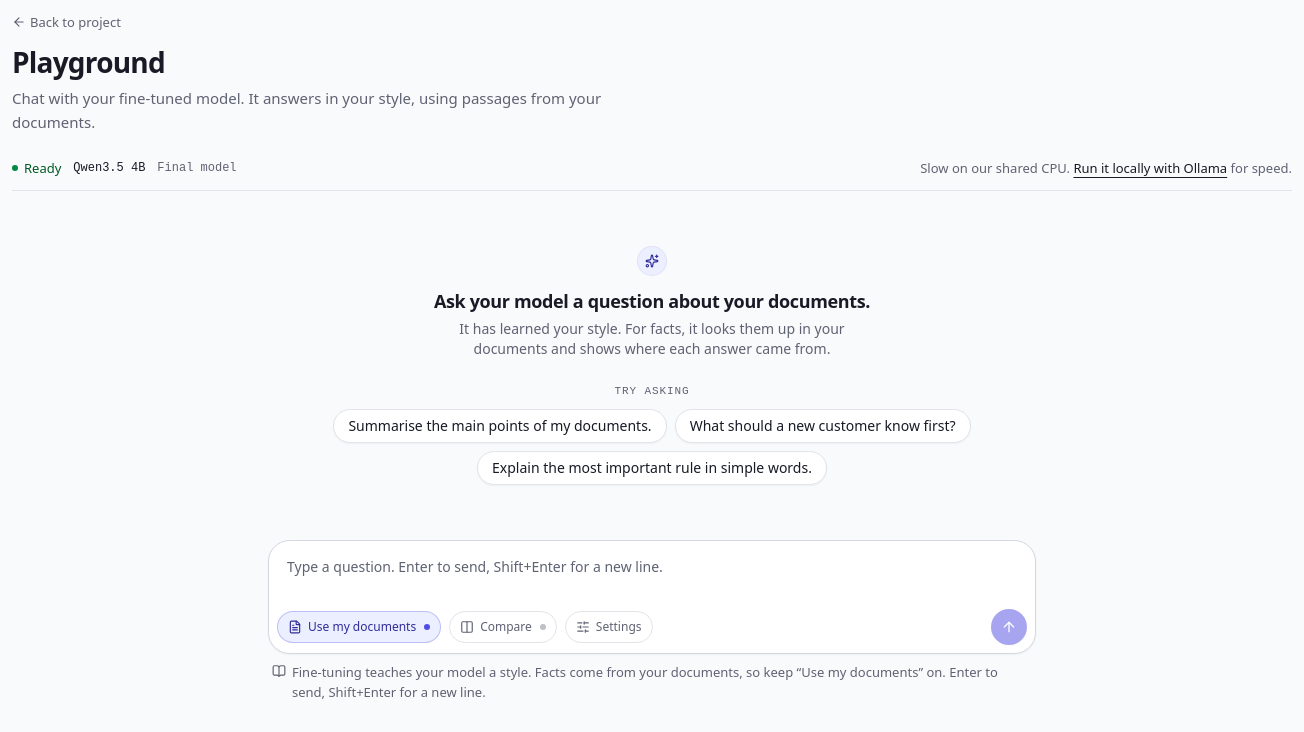
Test case: PlaygroundPage › compare mode sends a second, sequential request with compare_base and shows both answers
The image size is (1304, 732).
Click the switch named "Compare with base model".
click(503, 627)  # box [449,611,557,643]
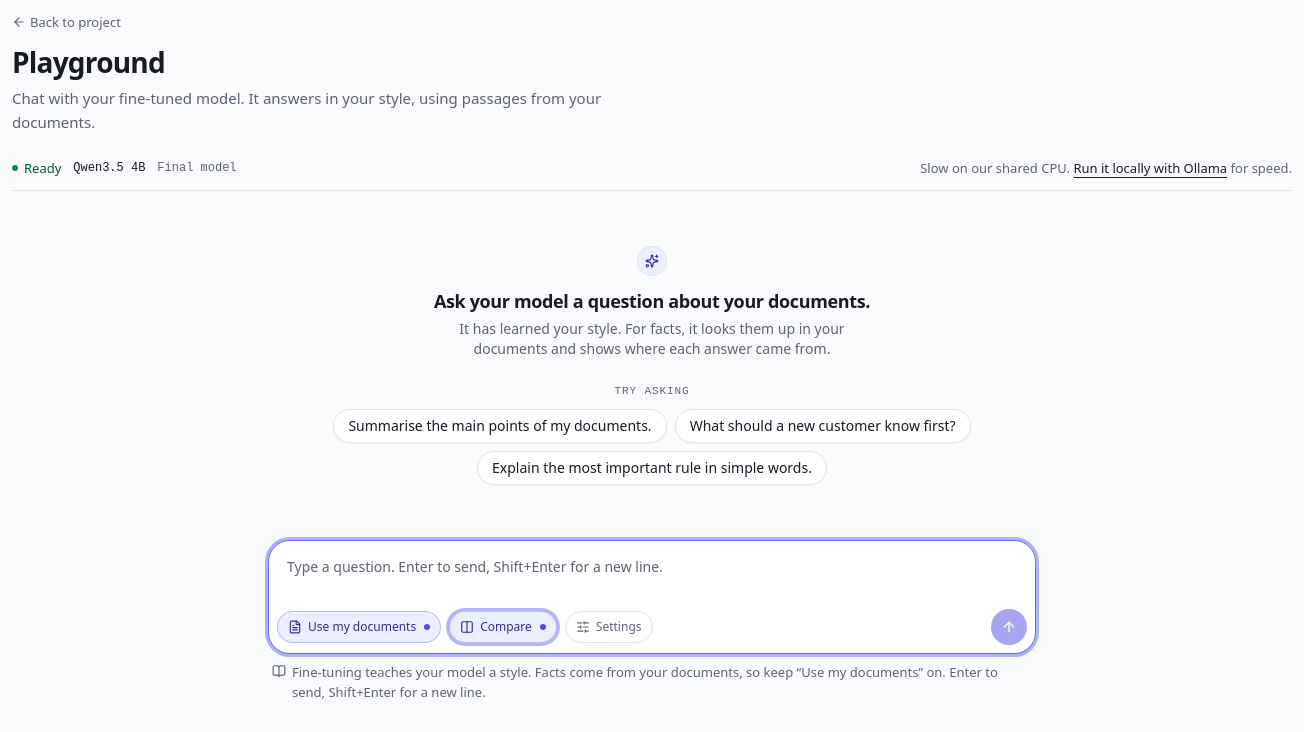
Type "Q" into the text box named "Your message".
click(652, 577); type("Q")  # box [277,549,1027,605]
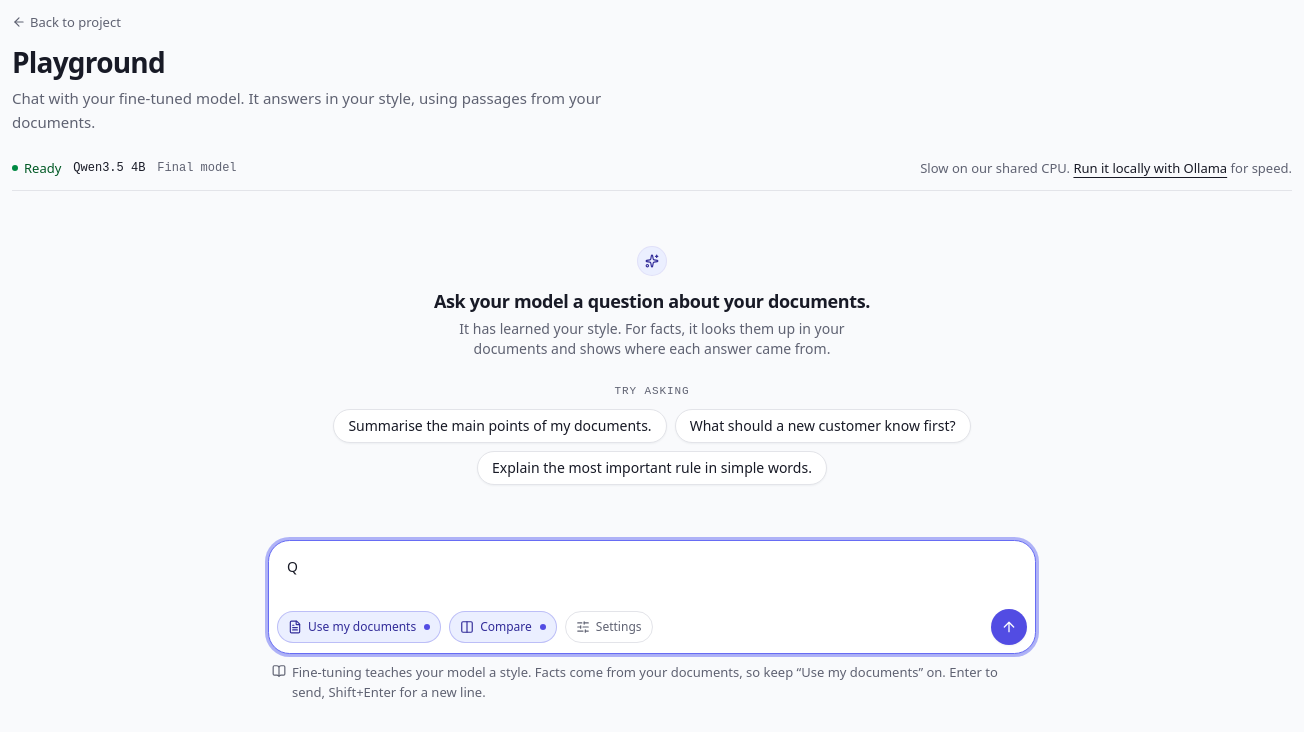
Click the button named "Send".
click(1009, 627)  # box [991,609,1027,645]
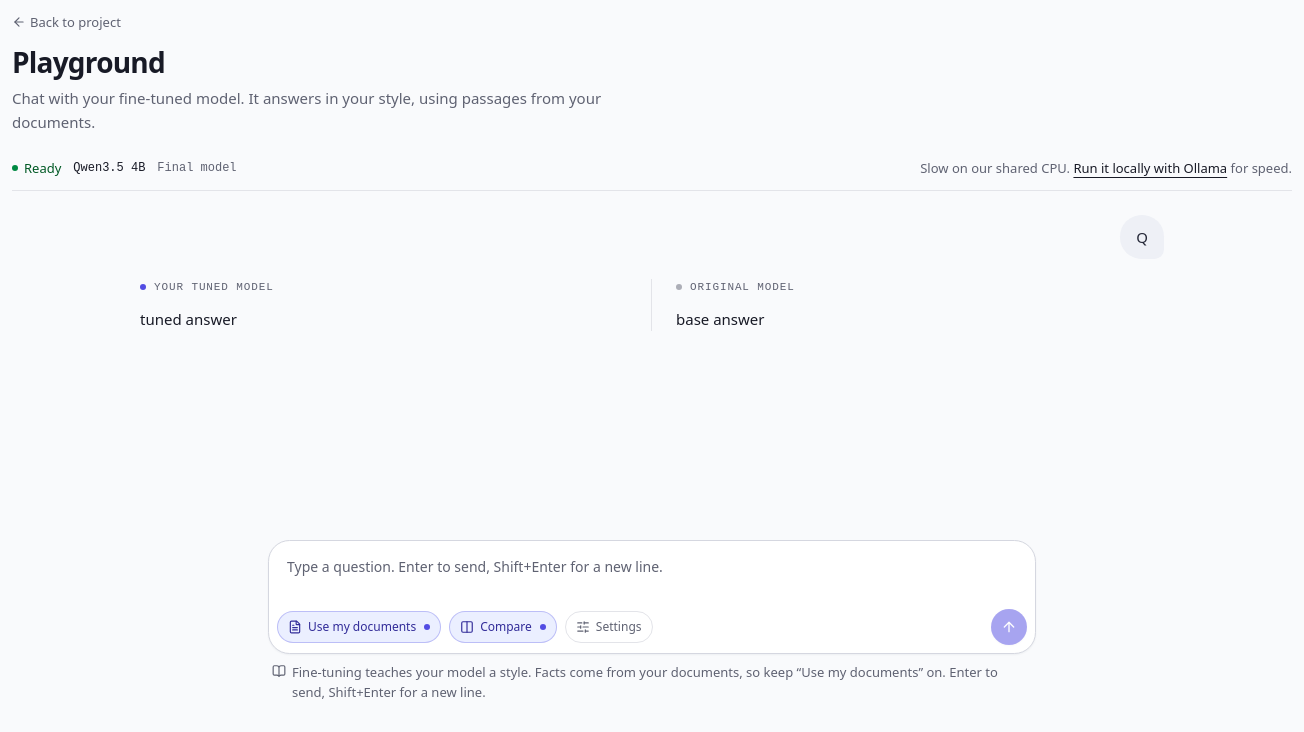
expect the text "tuned answer" is shown: met, box [140,309,237,329]
expect the text "base answer" is shown: met, box [676,309,764,329]
expect the text "Your tuned model" is shown: met, box [140,281,274,293]
